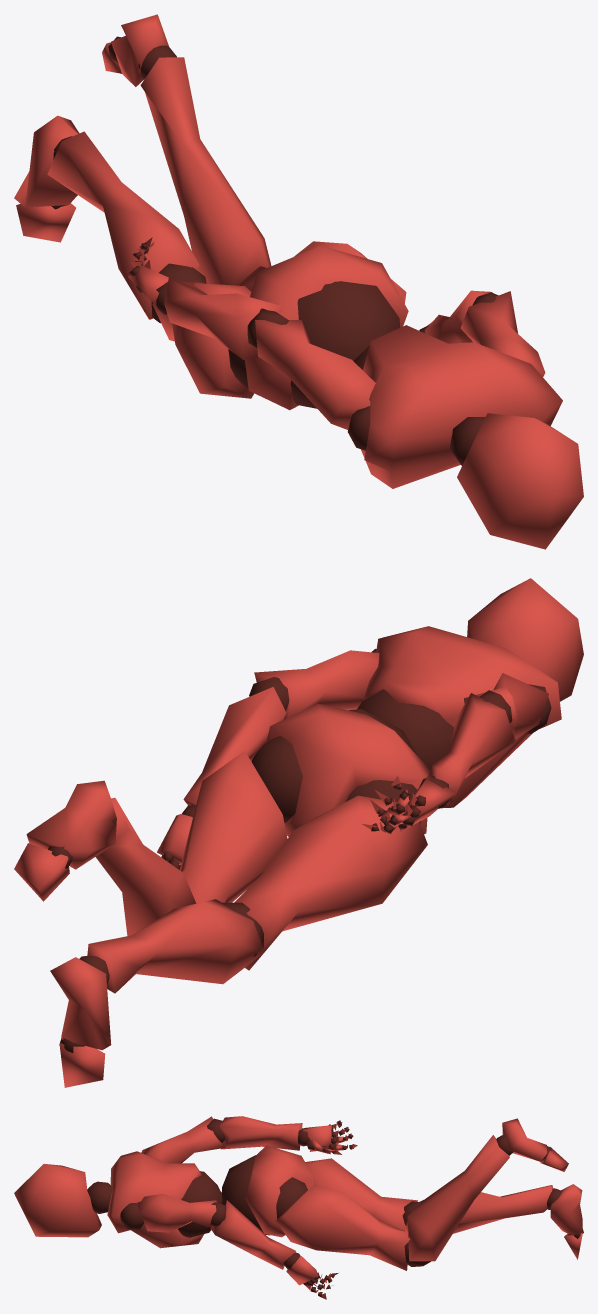
3 renders of one model, top to bottom at view 1: azimuth 30°, elevation 25°; view 2: azimuth 150°, elevation 25°; view 3: azimuth 270°, elevation 25°, orthographic. The views are drawn at different scales.
Visible parts, largest first — view 1: Beta_Surface, Beta_Joints; view 2: Beta_Surface, Beta_Joints; view 3: Beta_Surface, Beta_Joints.
Boxes of the visible parts, bbox=[...] form: Beta_Surface: bbox=[14, 14, 583, 549]; Beta_Joints: bbox=[51, 36, 498, 465]; Beta_Surface: bbox=[14, 578, 583, 1087]; Beta_Joints: bbox=[48, 649, 551, 1052]; Beta_Surface: bbox=[14, 1116, 582, 1299]; Beta_Joints: bbox=[87, 1118, 583, 1296].
Size of the model in its own units: 0.6016 by 0.5418 by 1.8.
